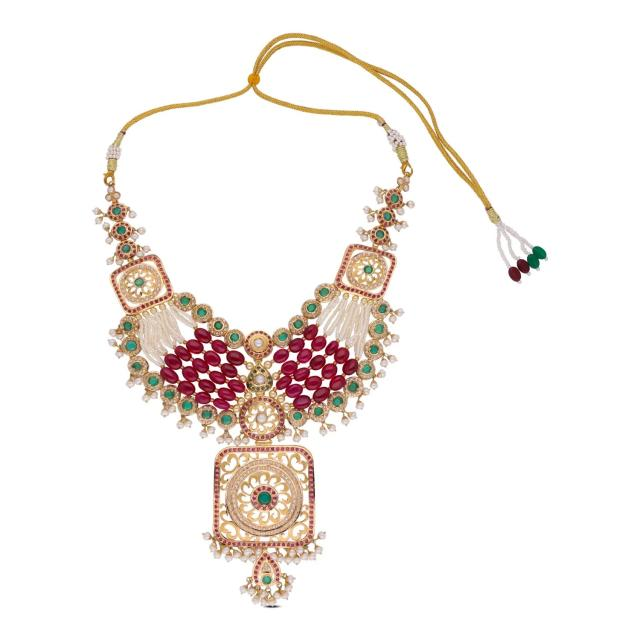missing gem: (265, 373, 269, 377), (282, 466, 286, 469), (254, 398, 257, 401), (217, 457, 220, 460)
